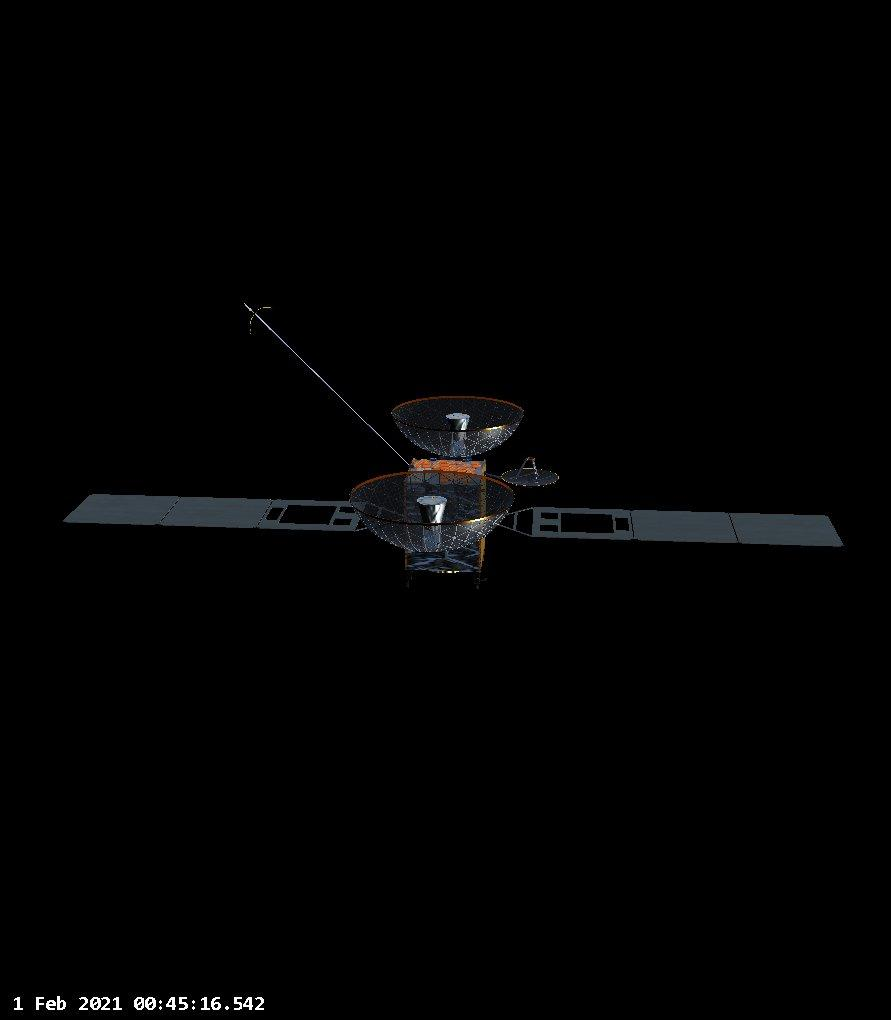antenna: (228, 283, 417, 476), (342, 467, 519, 558), (387, 382, 529, 459), (498, 448, 567, 494)
body: (401, 455, 490, 576)
solar: (498, 493, 857, 554), (54, 480, 372, 545)
